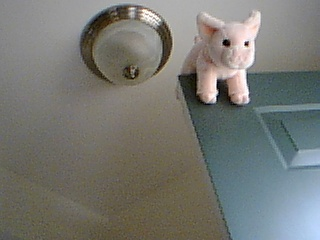piggy: (177, 9, 263, 107)
